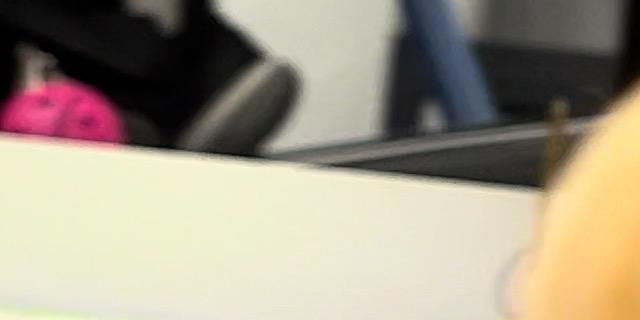burger: (433, 0, 640, 320)
